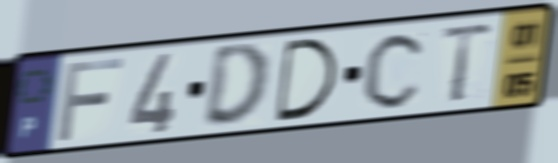4: (125, 49, 178, 136)
C: (360, 29, 431, 112)
D: (199, 40, 272, 131), (273, 35, 342, 125)
F: (55, 54, 128, 144)
T: (437, 19, 498, 107)
